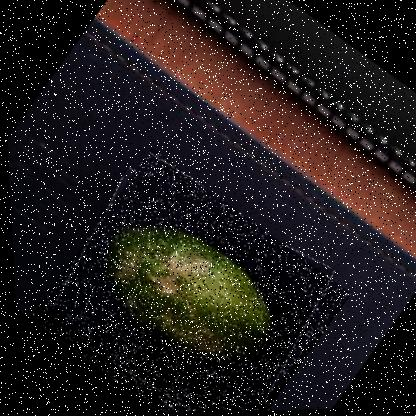orange_rotten: (17, 144, 352, 415)
